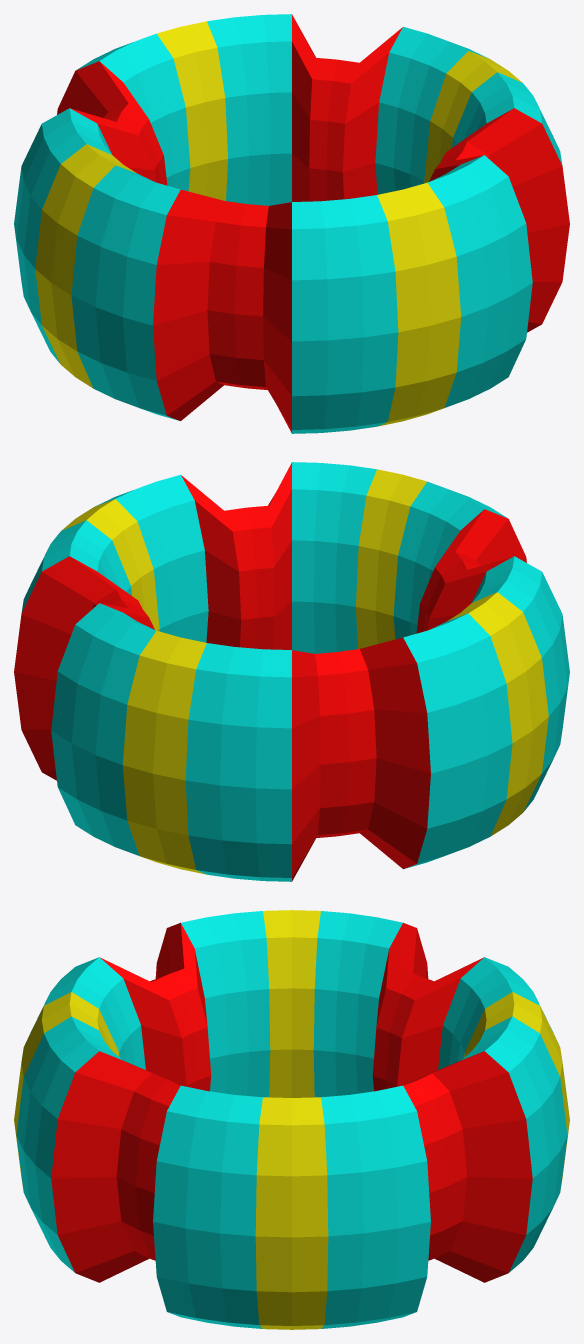
The model's file is Tyre.fbx.
3 views of the same model, one above another, from view 1: azimuth 30°, elevation 25°; view 2: azimuth 150°, elevation 25°; view 3: azimuth 270°, elevation 25° (orthographic).
Visible parts, largest first — view 1: Torus; view 2: Torus; view 3: Torus.
Boxes of the visible parts, <box> form: Torus: <box>14,14,569,433</box>; Torus: <box>14,462,569,881</box>; Torus: <box>14,910,569,1329</box>.
Bounding box in the file's own units: 250 × 115 × 250.
